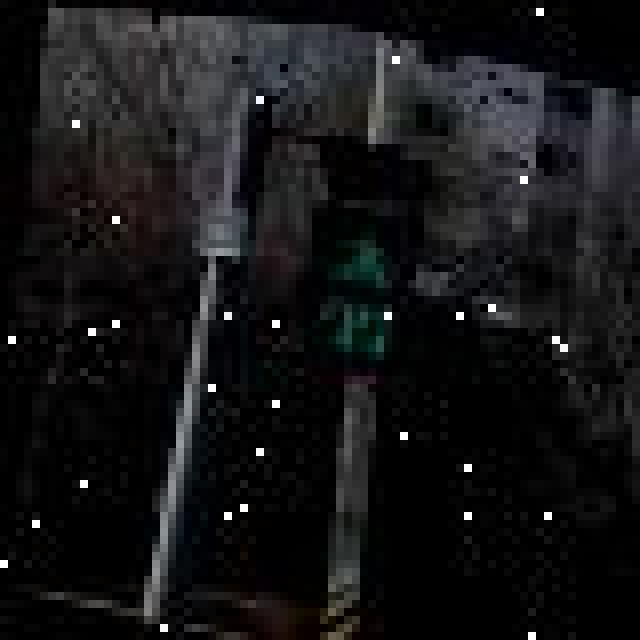greenlight: (312, 144, 400, 296)
